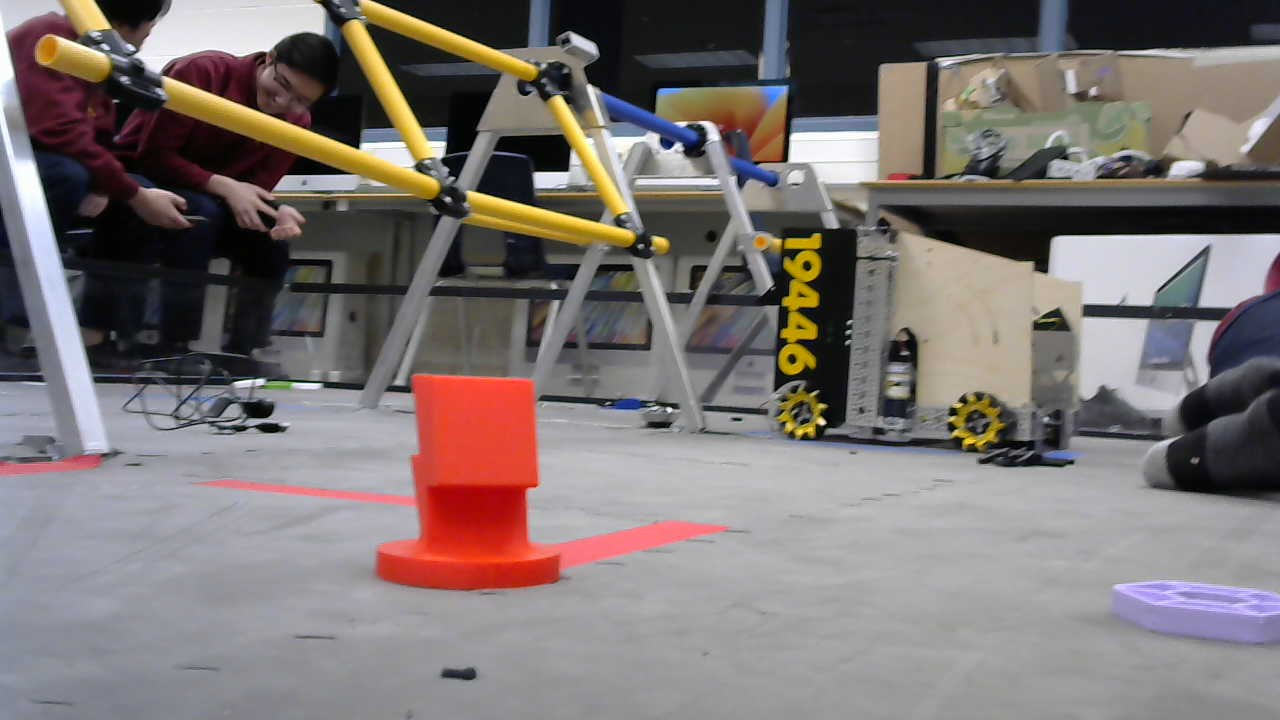redobject: (378, 373, 565, 593)
